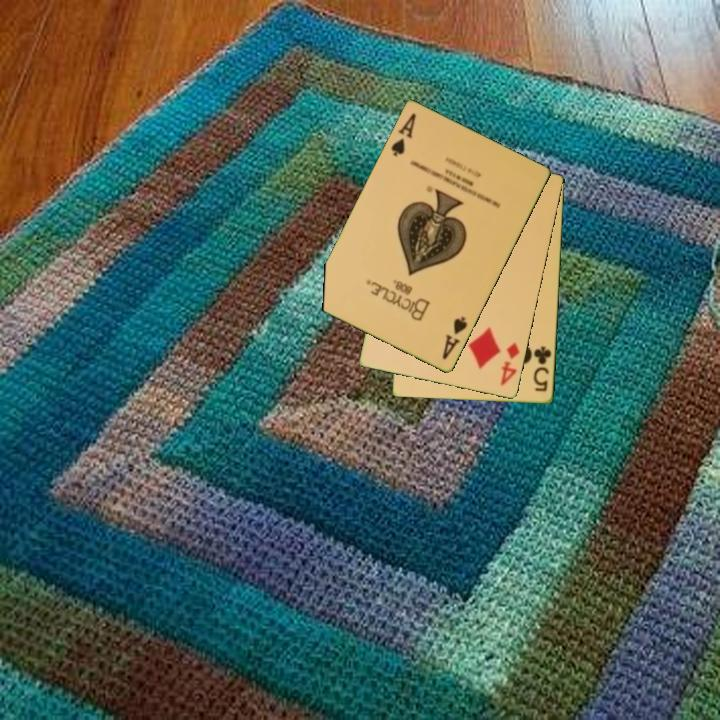4d: (497, 339, 523, 389)
5c: (530, 343, 554, 394)
As: (439, 313, 471, 363), (387, 110, 419, 160)
